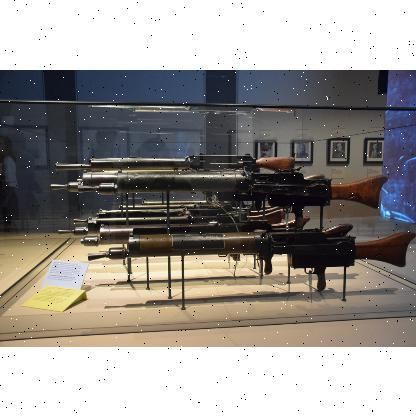gun: (46, 144, 356, 242)
